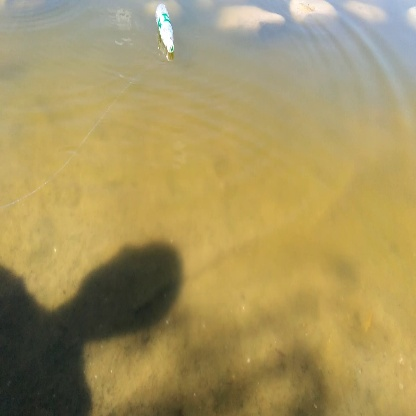bottle: (150, 6, 177, 56)
